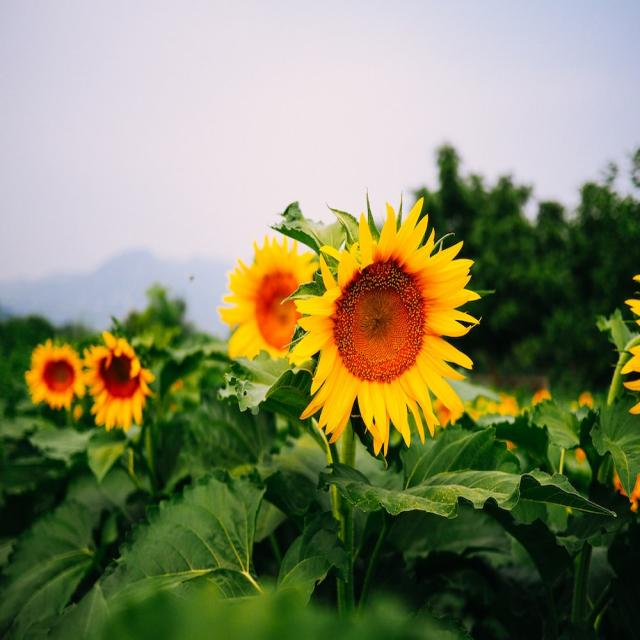sunflower: (286, 189, 490, 462), (213, 221, 333, 387), (74, 328, 161, 438), (24, 330, 88, 416), (613, 270, 640, 428)
